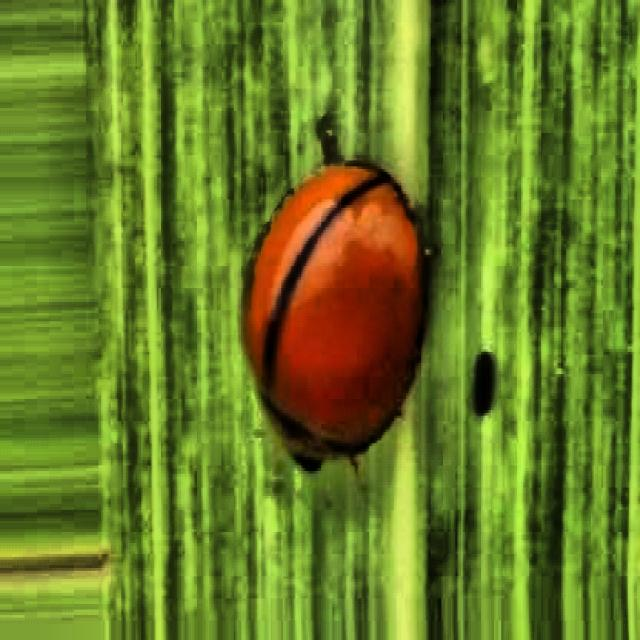Ladybug: (192, 77, 463, 541)
